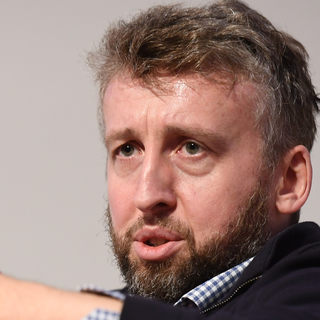eye: (165, 135, 214, 164), (106, 138, 148, 166)
